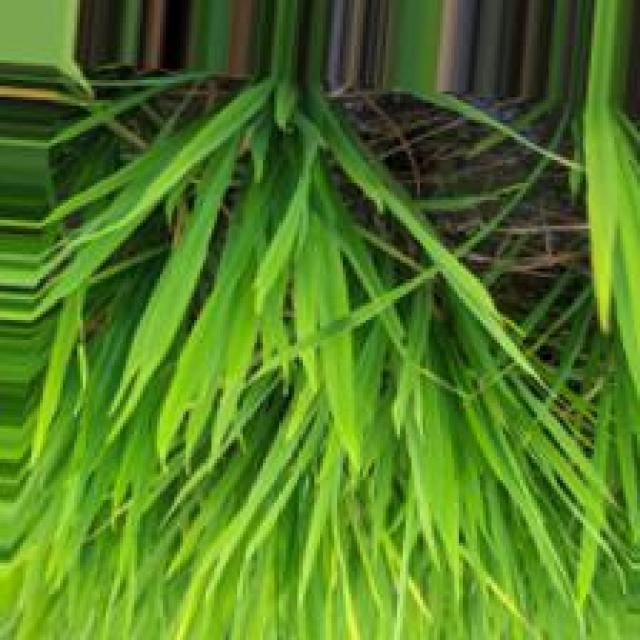HealthyLeaf: (101, 150, 233, 444), (582, 0, 640, 400)
